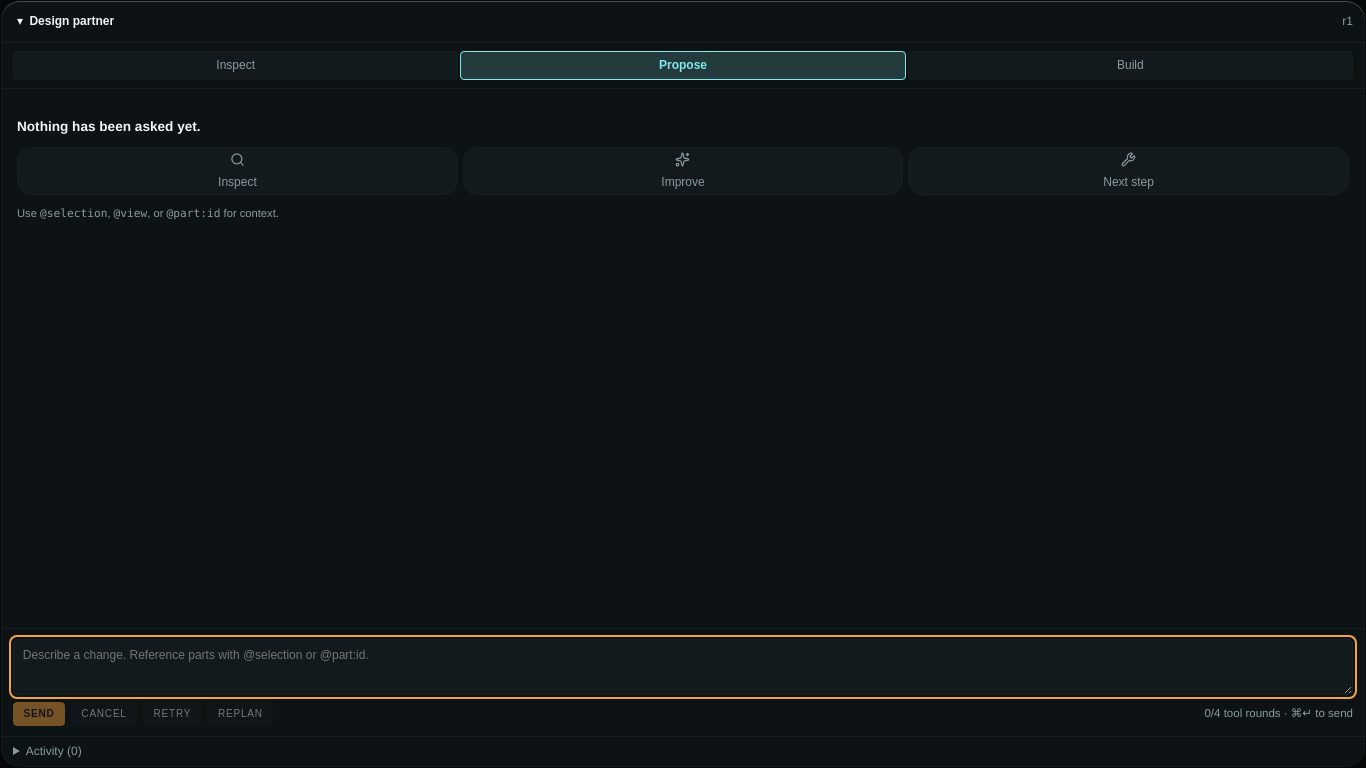
Scenario: AgentWorkbench accessibility › collapses and expands from the keyboard, restoring focus each way
The image size is (1366, 768).
Click the button "▾ Design partner".
click(72, 21)  # box x1=13 y1=9 x2=1334 y2=34
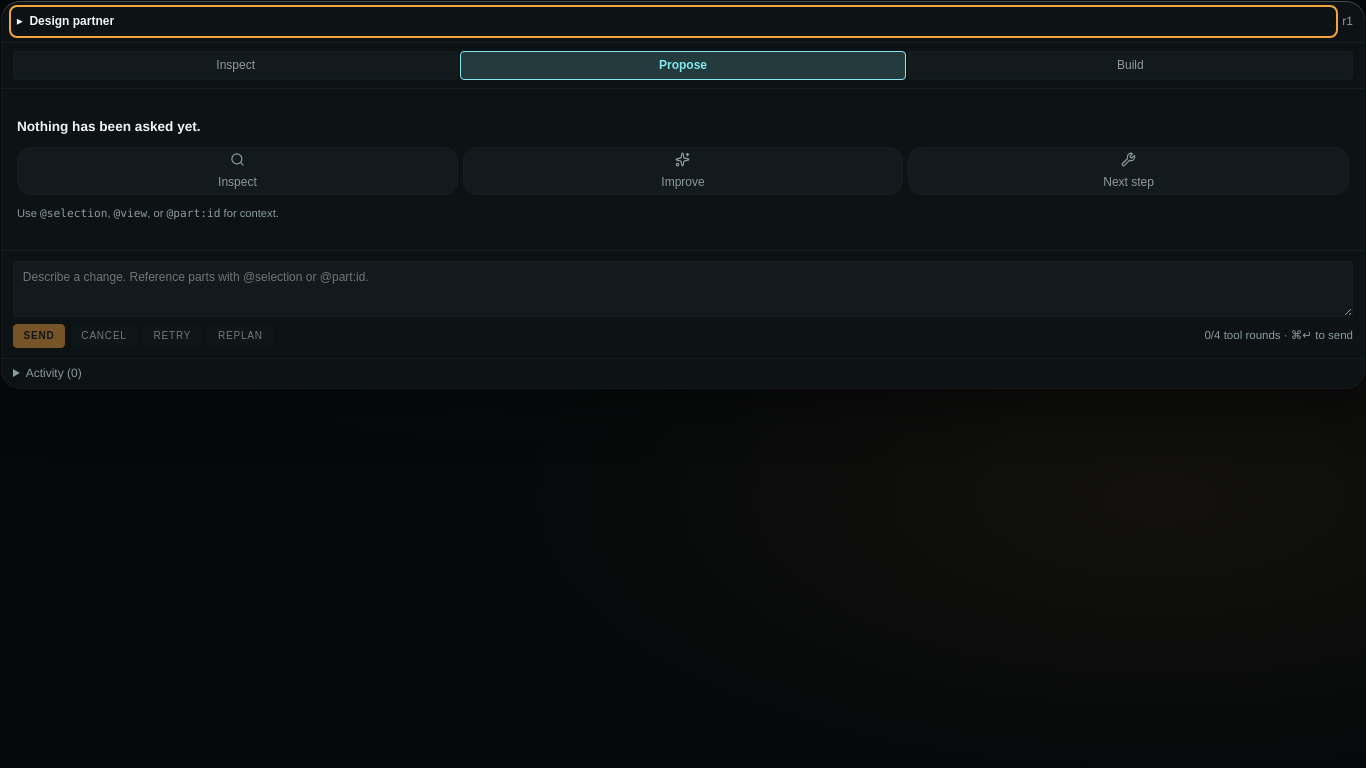
Now the button "▾ Design partner" is collapsed
Click the button "▾ Design partner".
click(72, 21)  # box x1=13 y1=9 x2=1334 y2=34
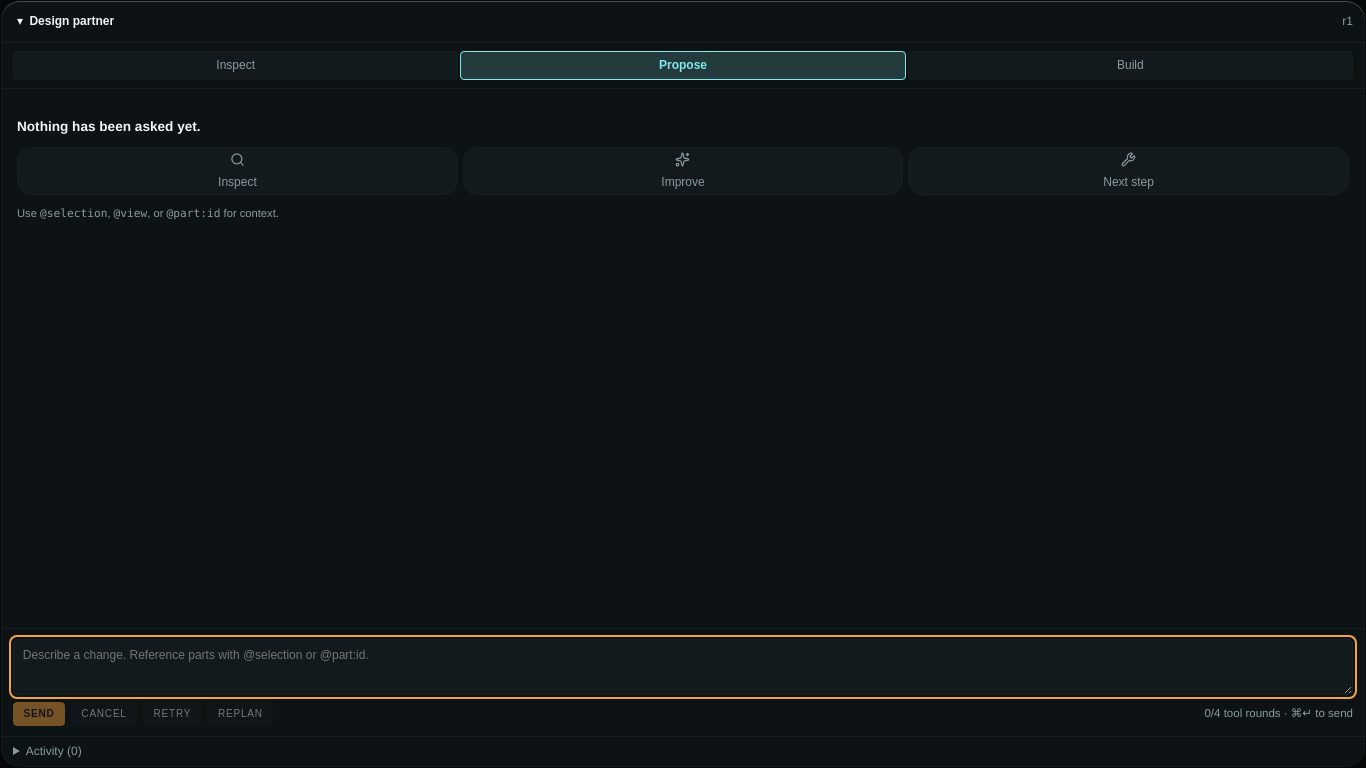
Now the button "▾ Design partner" is expanded, box x1=13 y1=9 x2=1334 y2=34
